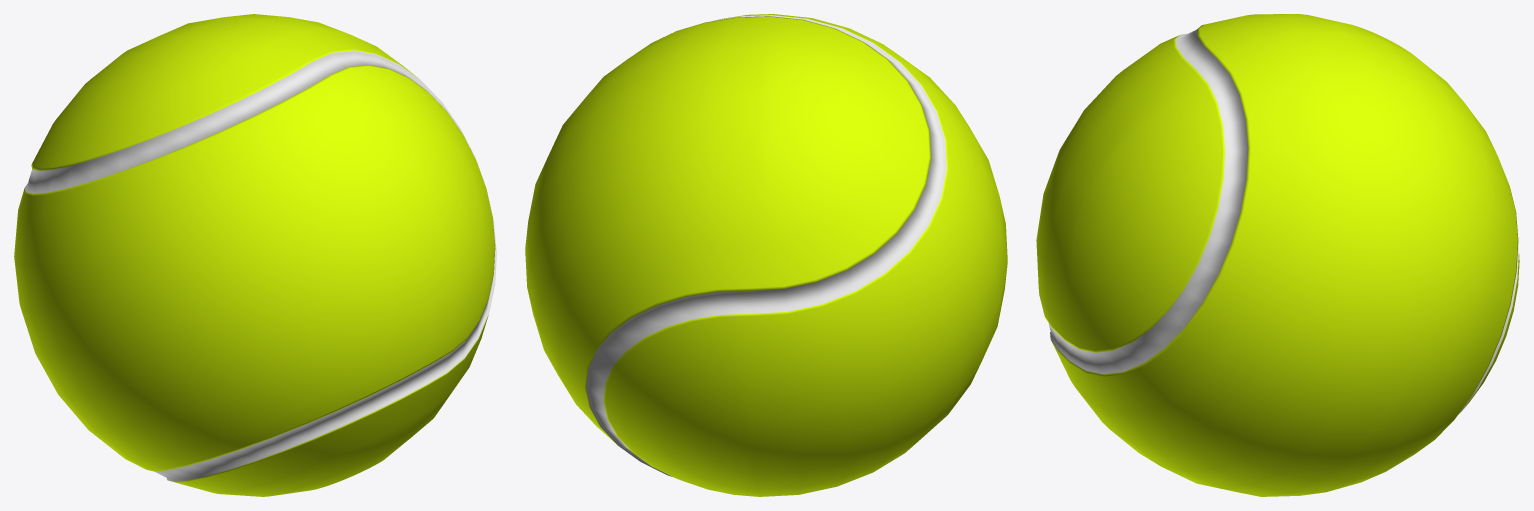
File: tennis.glb
The picture shows the model from 3 angles, left to right: view 1: azimuth 30°, elevation 25°; view 2: azimuth 150°, elevation 25°; view 3: azimuth 270°, elevation 25°; orthographic projection.
Visible parts, largest first — view 1: Sphere.001; view 2: Sphere.001; view 3: Sphere.001.
Part boxes in pixels (bbox=[...]): Sphere.001: bbox=[14, 14, 496, 496]; Sphere.001: bbox=[525, 14, 1007, 496]; Sphere.001: bbox=[1036, 14, 1519, 496].
Size of the model in its own units: 2 by 1.99 by 1.99.
